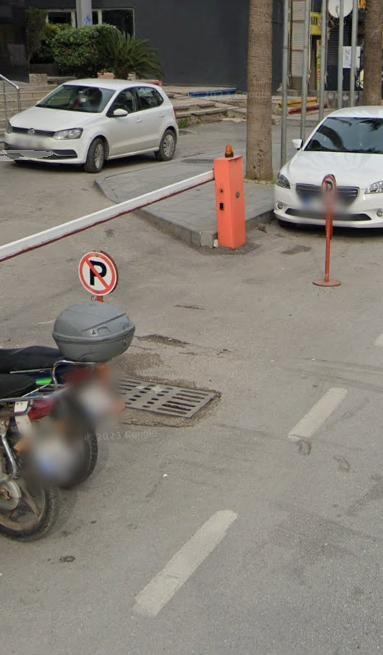nopark: (81, 255, 115, 295)
